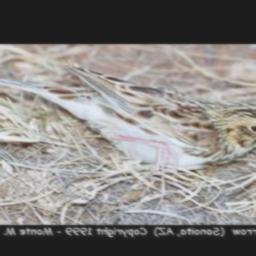Sparrow: (0, 63, 256, 172)
